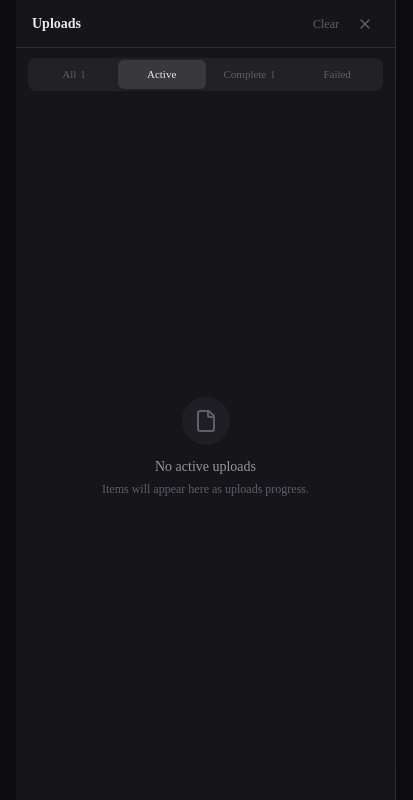
when a finished row says it finished › a row with no completion time on record still counts from when it was added
Step 1. Click the button "All1" → (74, 74), box [30,60,118,88]
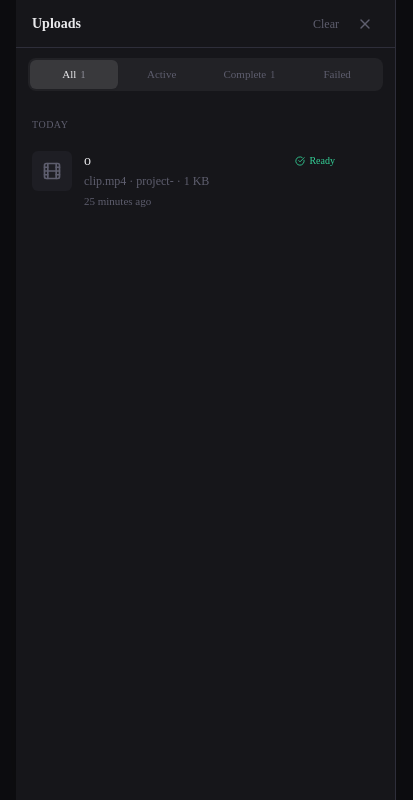
Result: the text "25 minutes ago" is shown at [84,192,151,209]
